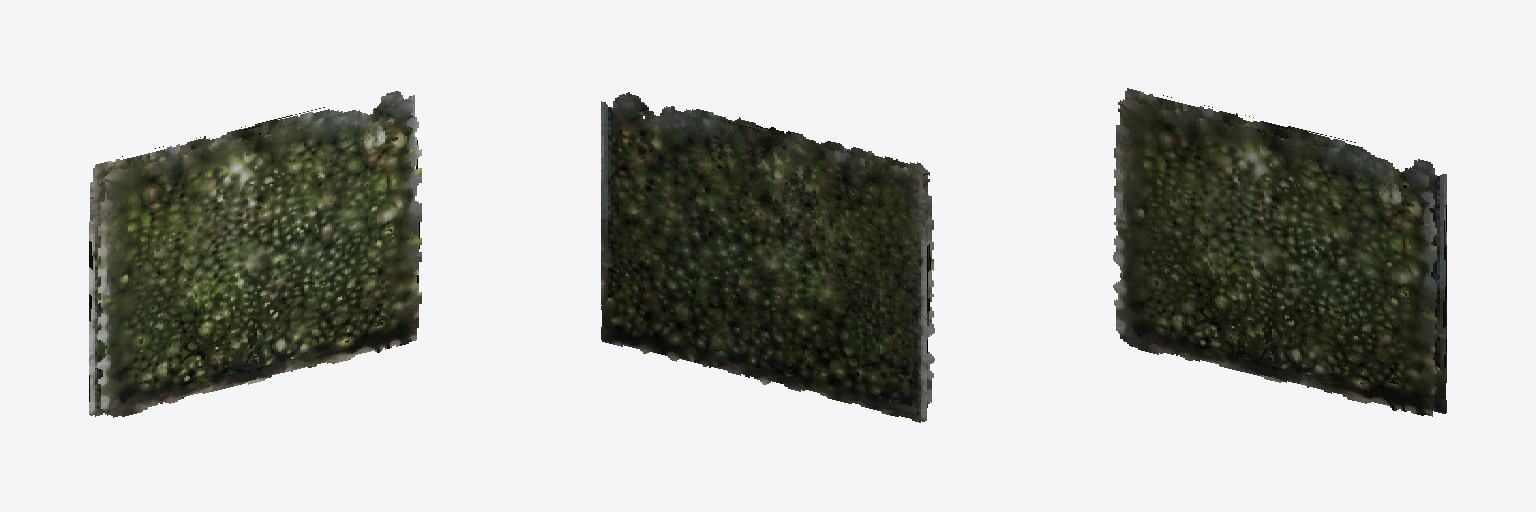
3 views of the same model, side by side, from view 1: azimuth 30°, elevation 25°; view 2: azimuth 150°, elevation 25°; view 3: azimuth 330°, elevation 25° (orthographic).
Visible parts, largest first — view 1: pMesh1; view 2: pMesh1; view 3: pMesh1.
Boxes of the visible parts, box(x1,y1,x2,y2) form: pMesh1: box(89, 91, 421, 417); pMesh1: box(601, 92, 934, 422); pMesh1: box(1113, 88, 1446, 416).
Bounding box in the file's own units: 2 × 1.5 × 0.0896.
Materials: 1 (1 with a texture image).